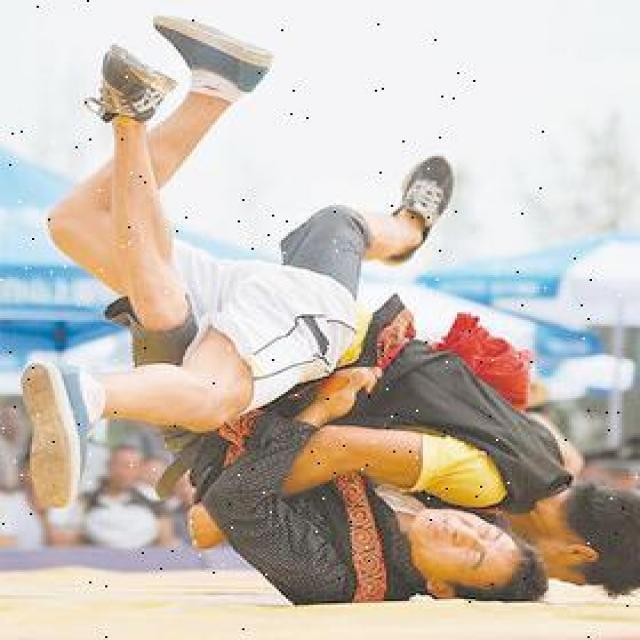fall: (62, 228, 638, 538)
